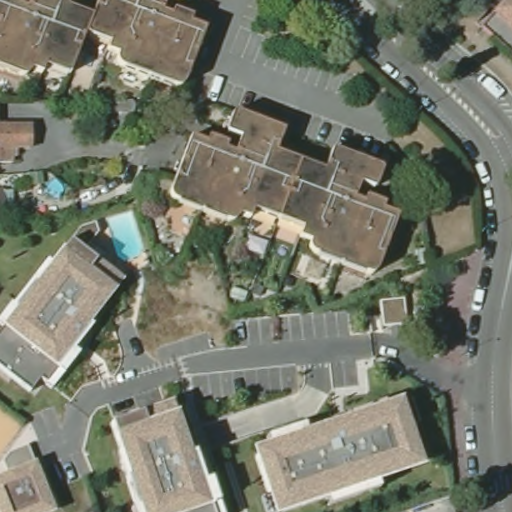pool: (106, 210, 149, 261), (44, 180, 67, 198)
